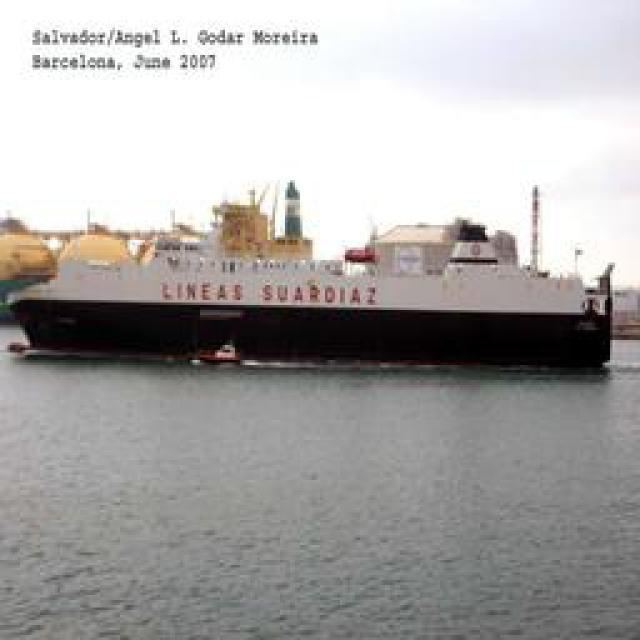Ship: (7, 209, 630, 364)
